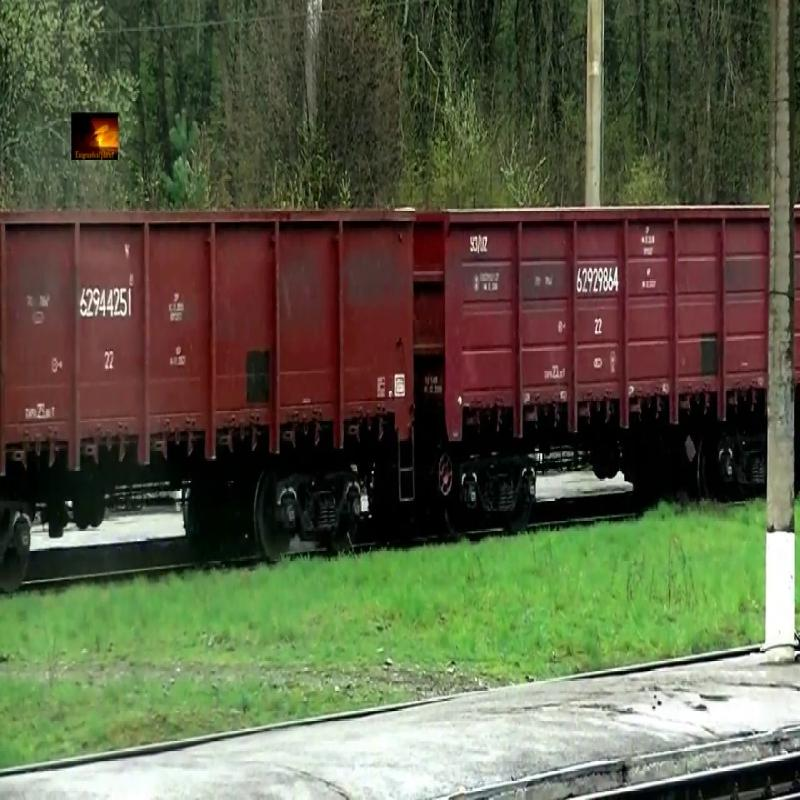train: (1, 209, 418, 474), (419, 207, 771, 442)
